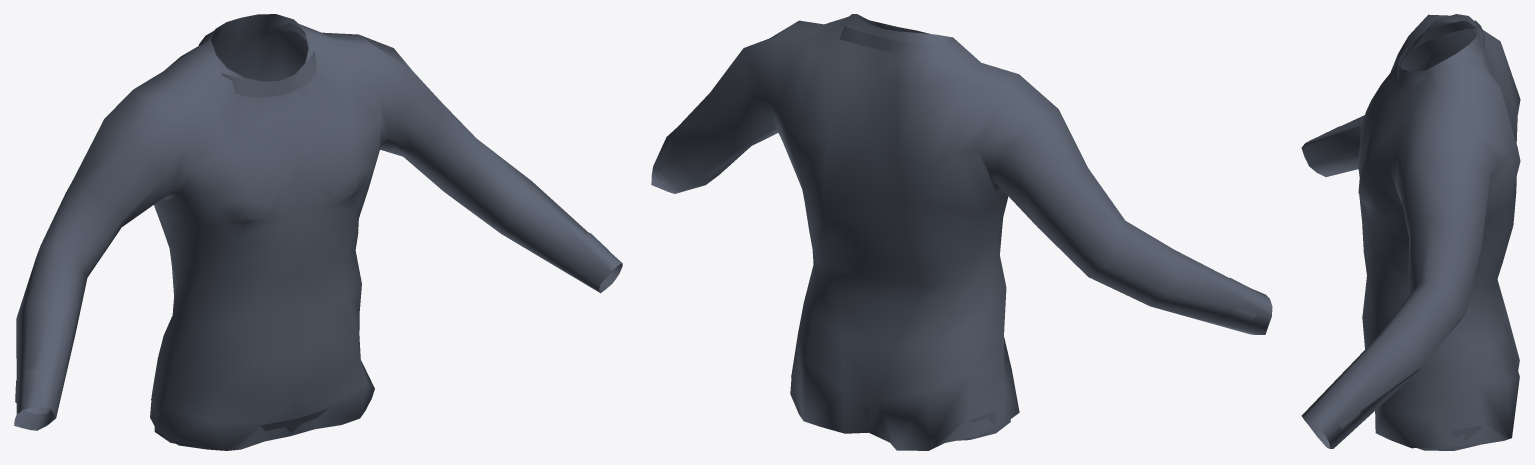
Rendered from sweater.glb.
The picture shows the model from 3 angles, left to right: view 1: azimuth 30°, elevation 25°; view 2: azimuth 150°, elevation 25°; view 3: azimuth 270°, elevation 25°; orthographic projection. The views are drawn at different scales.
Parts seen in each view (by area): view 1: sweater; view 2: sweater; view 3: sweater.
Part boxes in pixels (x1,y1,x2,y2): sweater: (14,14,622,450); sweater: (651,14,1272,450); sweater: (1301,14,1520,450).
Bounding box in the file's own units: 1.07 × 0.6622 × 0.3418.
